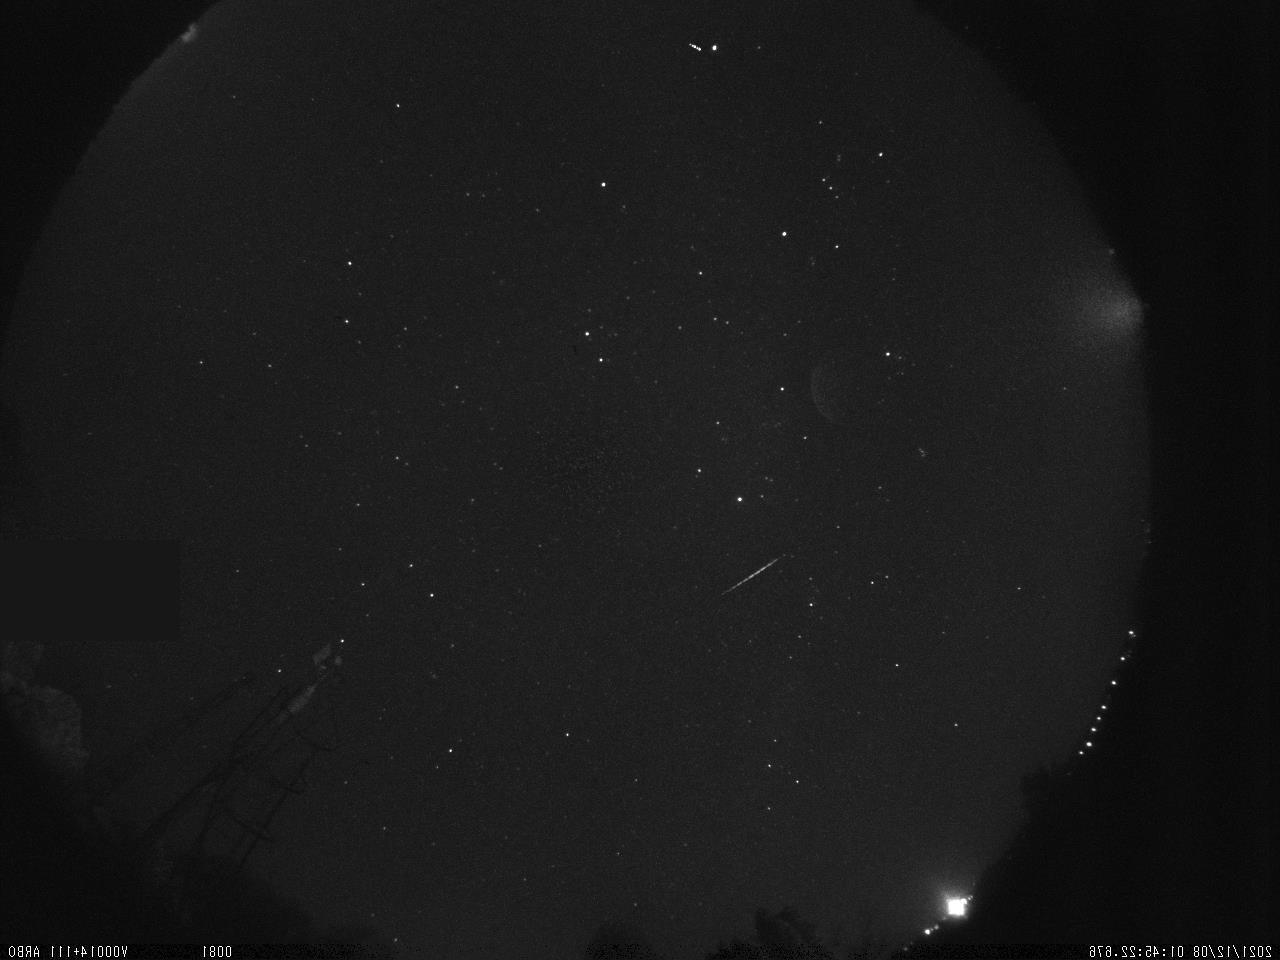meteor: (708, 542, 791, 611)
